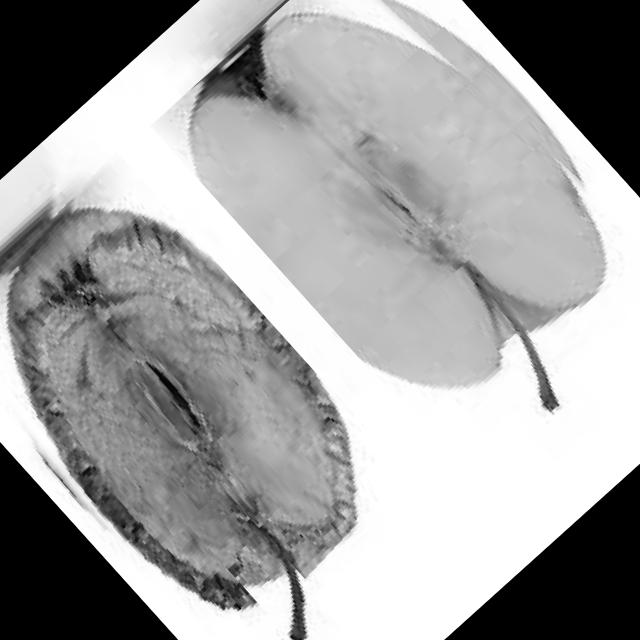Organic: (148, 0, 640, 438), (0, 149, 413, 640), (438, 256, 604, 433), (184, 487, 354, 640)
